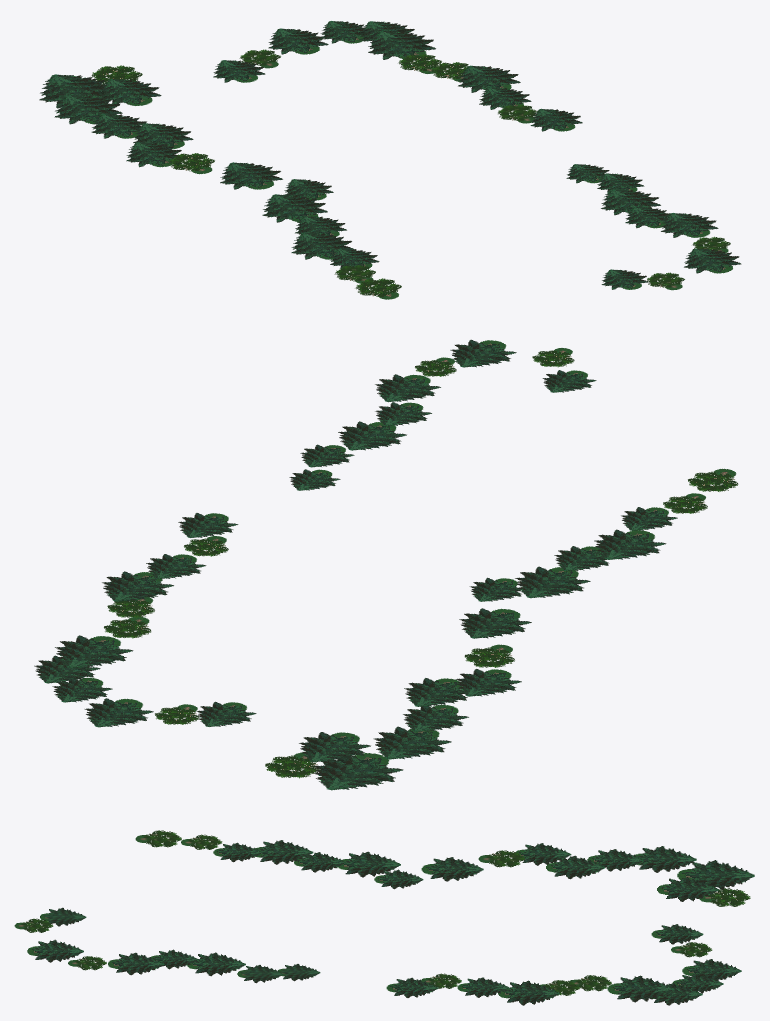
The model's file is glf_map_fc16__glf_tree_fc16.glb.
3 renders of one model, top to bottom at view 1: azimuth 30°, elevation 25°; view 2: azimuth 150°, elevation 25°; view 3: azimuth 270°, elevation 25°, orthographic. The views are drawn at different scales.
Parts seen in each view (by area): view 1: polygon10, polygon0; view 2: polygon10, polygon0; view 3: polygon10, polygon0.
Boxes of the visible parts, x1,y1,x2,y2 form: polygon10: (39, 21, 741, 289); polygon0: (90, 49, 730, 299); polygon10: (34, 339, 677, 790); polygon0: (104, 348, 738, 778); polygon10: (27, 840, 754, 1005); polygon0: (14, 830, 750, 995).
Bounding box in the file's own units: 2384 × 260 × 4455.
Materials: 2 (2 with a texture image).
